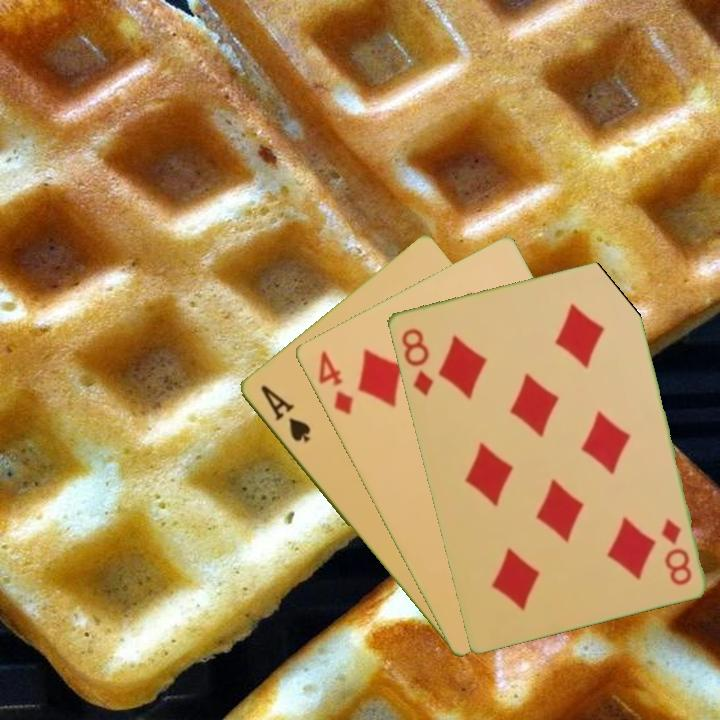4d: (314, 346, 357, 417)
8d: (397, 324, 436, 399), (657, 515, 694, 588)
As: (256, 381, 313, 445)
